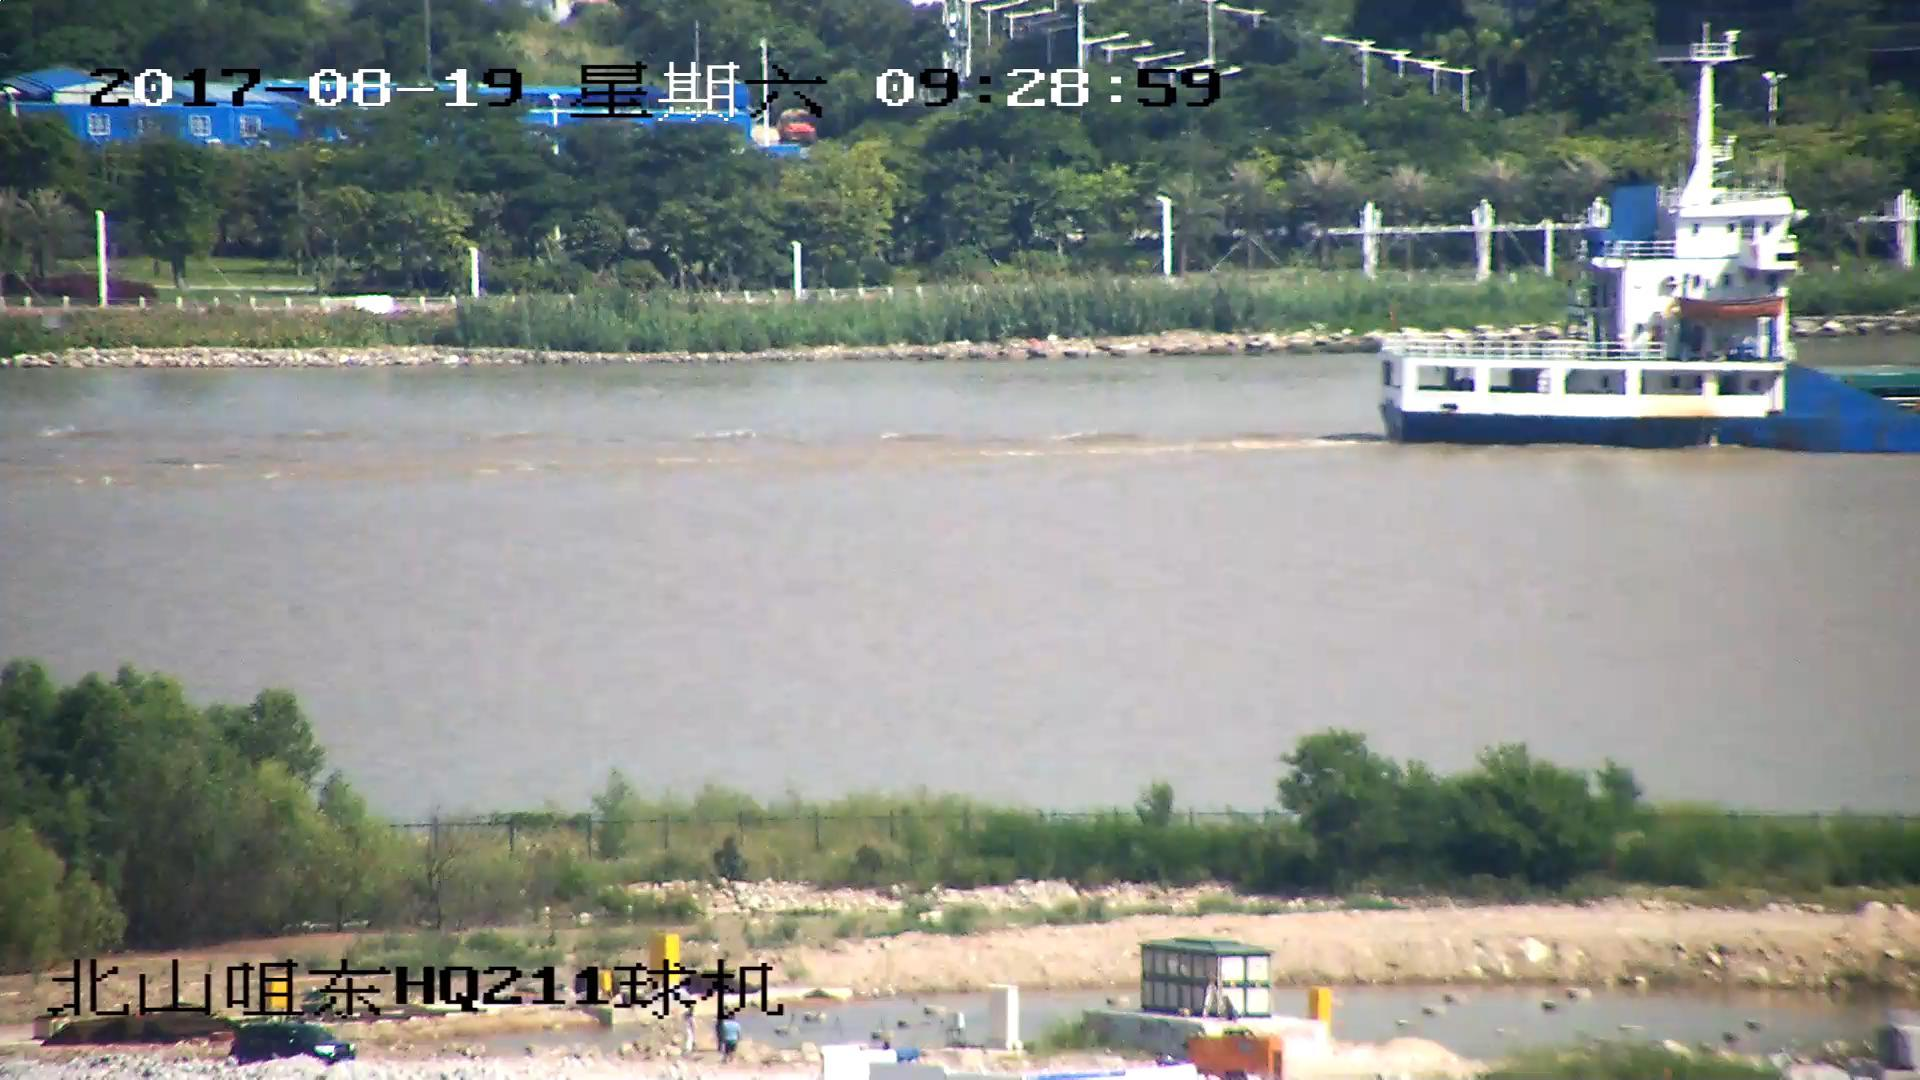Ship: (1375, 30, 1920, 454)
